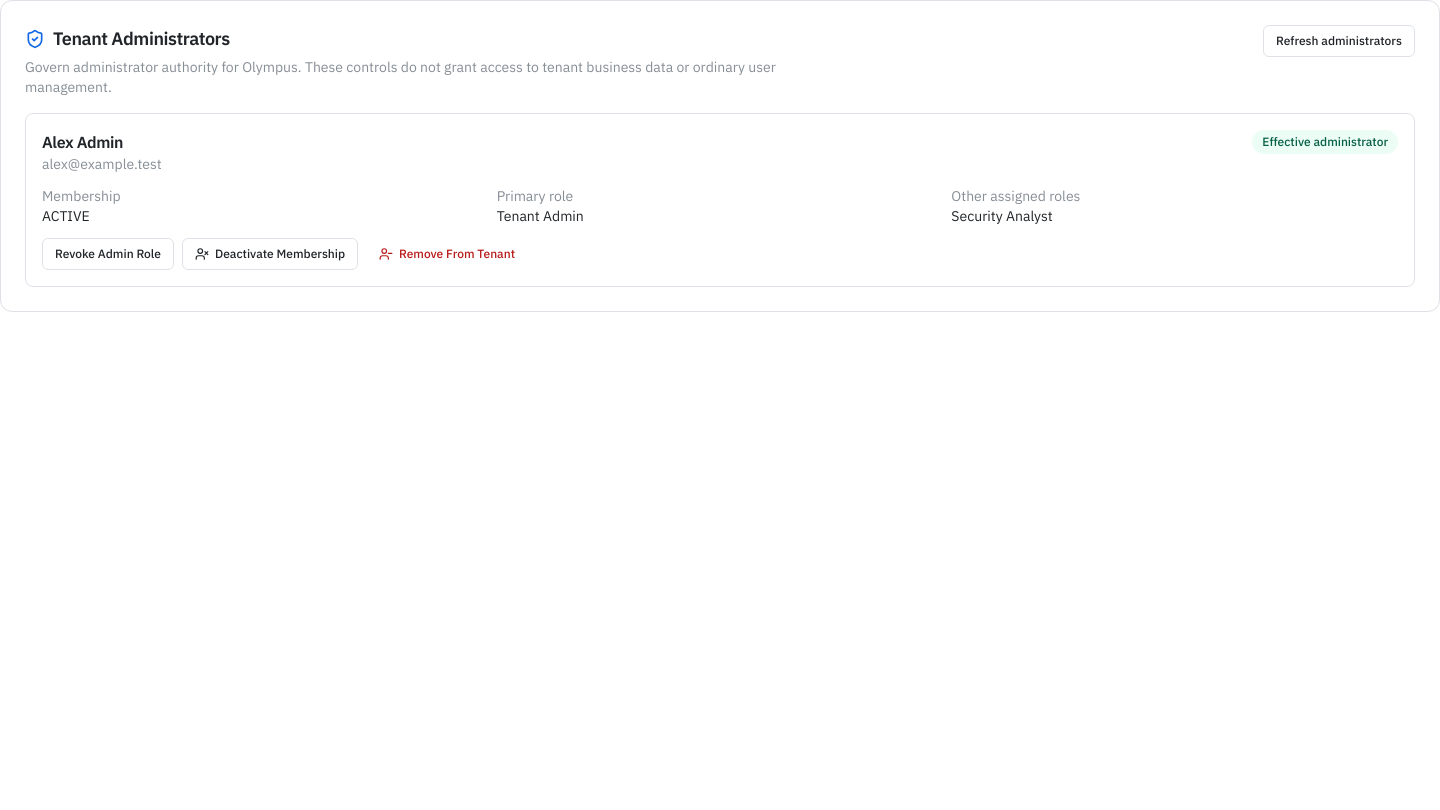
it: requires an explicit replacement for primary admin, includes custom roles and excludes platform/admin roles
The width and height of the screenshot is (1440, 810).
Check: the heading "Alex Admin" is shown, box x1=42 y1=132 x2=123 y2=152
Click the button "Revoke Admin Role" at (108, 254), box x1=42 y1=238 x2=174 y2=270
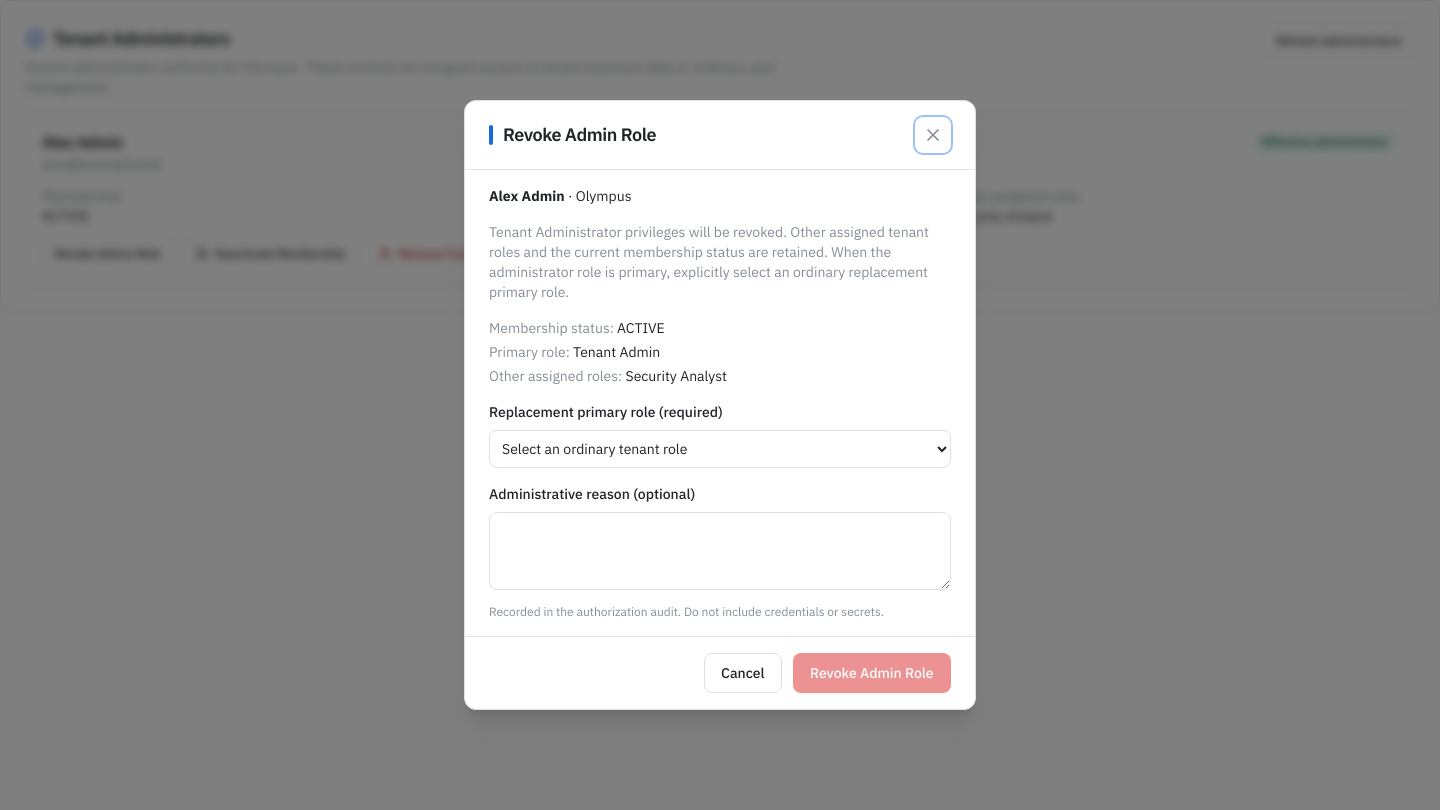
Check: the dropdown labelled "Replacement primary role (required)" shows "Select an ordinary tenant role"
Check: the button "Revoke Admin Role" is disabled, box x1=793 y1=653 x2=951 y2=693
Select "Custom Reviewer" in the dropdown labelled "Replacement primary role (required)" at (720, 449), box x1=489 y1=430 x2=951 y2=468
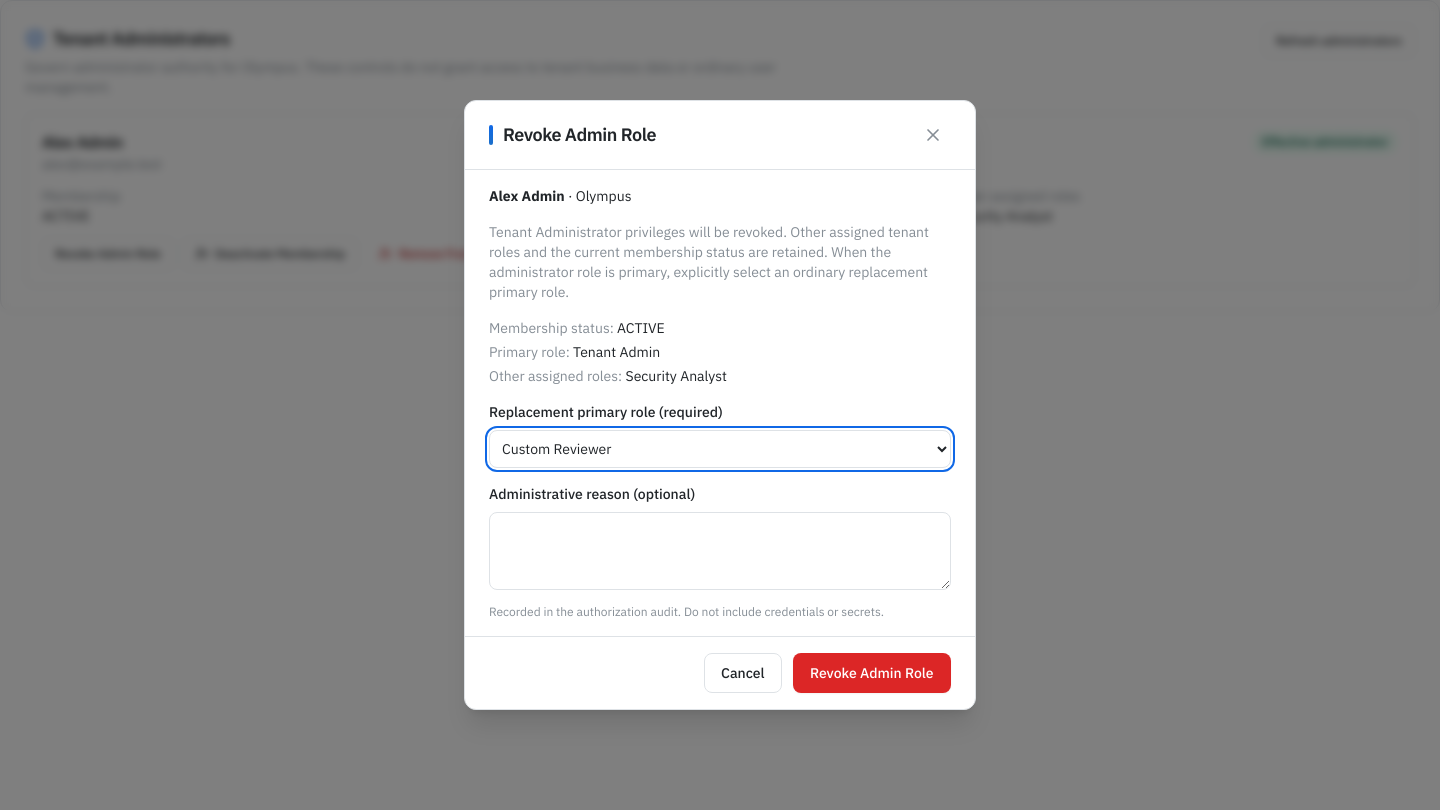
Type "Approved reassignment" into the text box labelled "Administrative reason (optional)" at (720, 551), box x1=489 y1=512 x2=951 y2=590
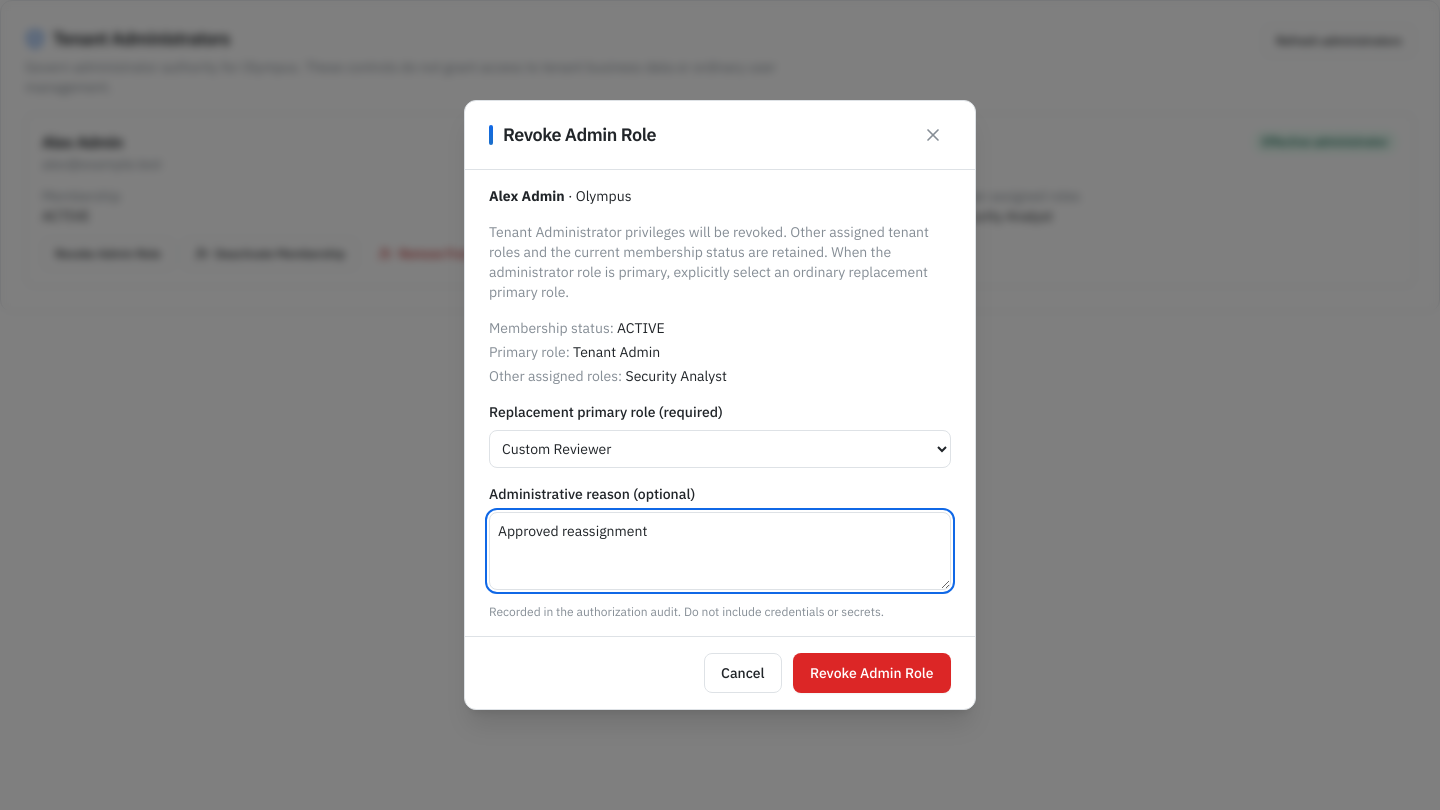
Click the button "Revoke Admin Role" at (872, 673), box x1=793 y1=653 x2=951 y2=693
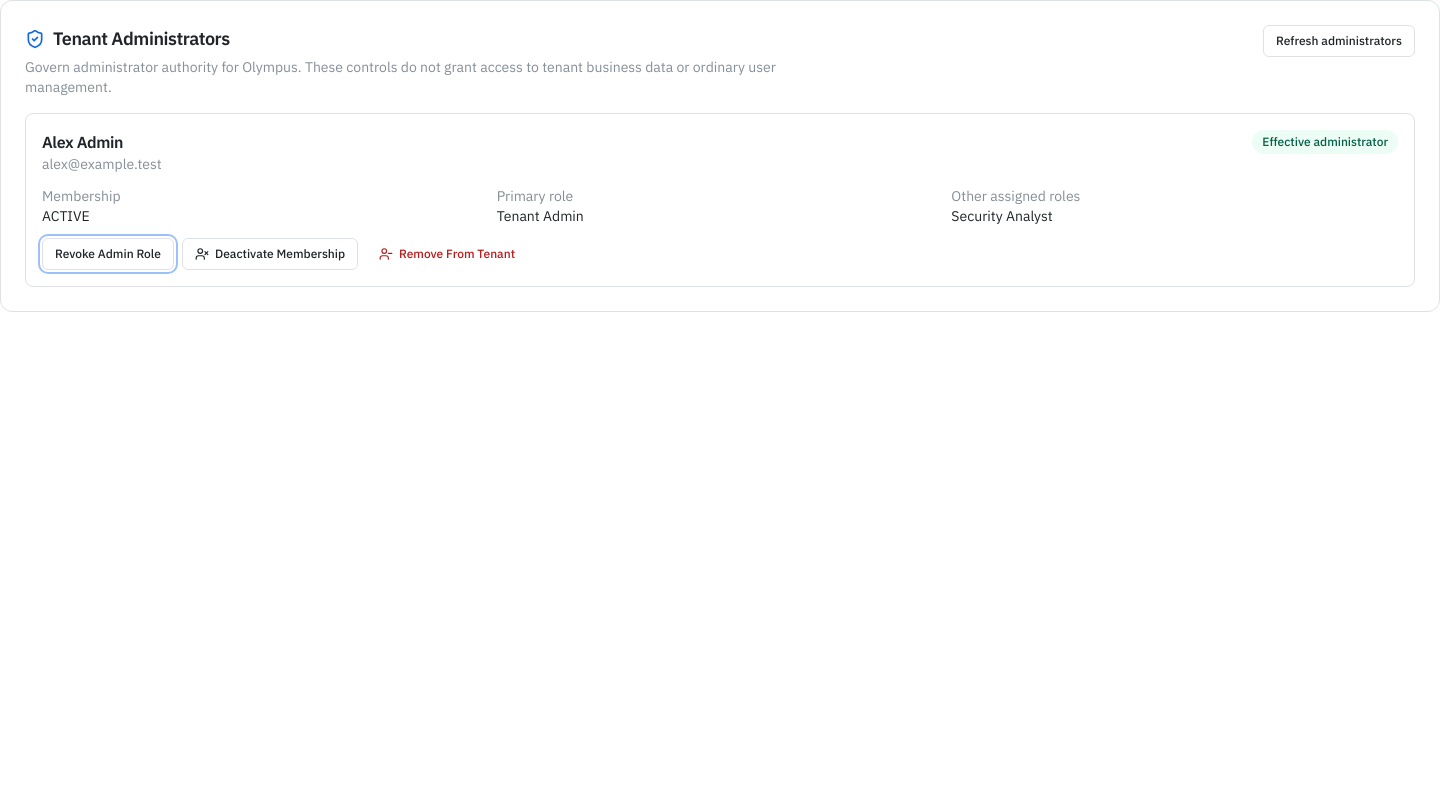
Check: the dialog is gone
